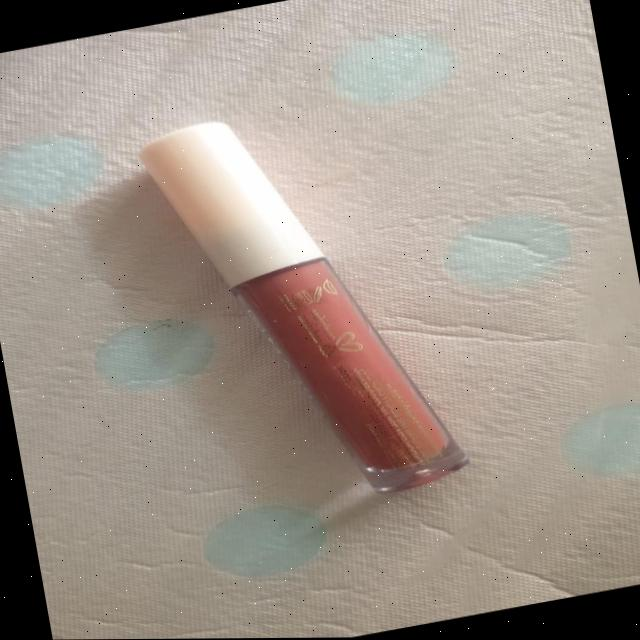lip gloss: (110, 60, 510, 547)
